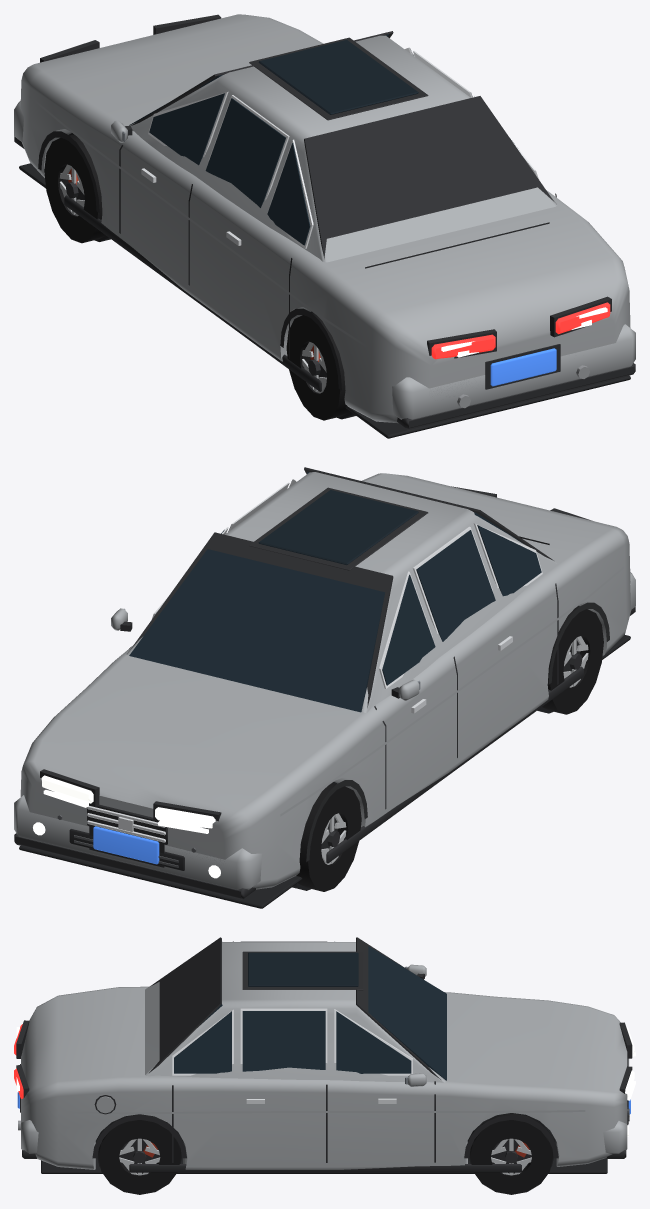
The model's file is car_sedan_exec_silver.glb.
3 views of the same model, one above another, from view 1: azimuth 30°, elevation 25°; view 2: azimuth 150°, elevation 25°; view 3: azimuth 270°, elevation 25° (orthographic). The views are drawn at different scales.
Parts seen in each view (by area): view 1: Body, Trim, Glass, Wheel_FL, Wheel_RL, Lights, Plate_R; view 2: Body, Glass, Trim, Wheel_FL, Wheel_RL, Lights, Plate_F; view 3: Body, Glass, Trim, Wheel_FR, Wheel_RR, Lights.
Part boxes in pixels (<box>): Body: <box>14,14,635,423</box>; Trim: <box>14,14,635,438</box>; Glass: <box>122,34,514,245</box>; Wheel_FL: <box>44,134,105,243</box>; Wheel_RL: <box>286,312,349,420</box>; Lights: <box>431,302,610,359</box>; Plate_R: <box>490,348,556,386</box>; Body: <box>14,472,635,889</box>; Glass: <box>124,472,541,712</box>; Trim: <box>14,467,635,908</box>; Wheel_FL: <box>296,783,361,891</box>; Wheel_RL: <box>542,606,603,714</box>; Lights: <box>33,775,220,878</box>; Plate_F: <box>93,826,159,864</box>; Body: <box>21,942,627,1169</box>; Glass: <box>174,946,446,1084</box>; Trim: <box>16,937,632,1173</box>; Wheel_FR: <box>470,1113,552,1194</box>; Wheel_RR: <box>98,1114,181,1194</box>; Lights: <box>14,1024,635,1136</box>.
Size of the model in its own units: 2.03 by 1.5 by 4.72.
